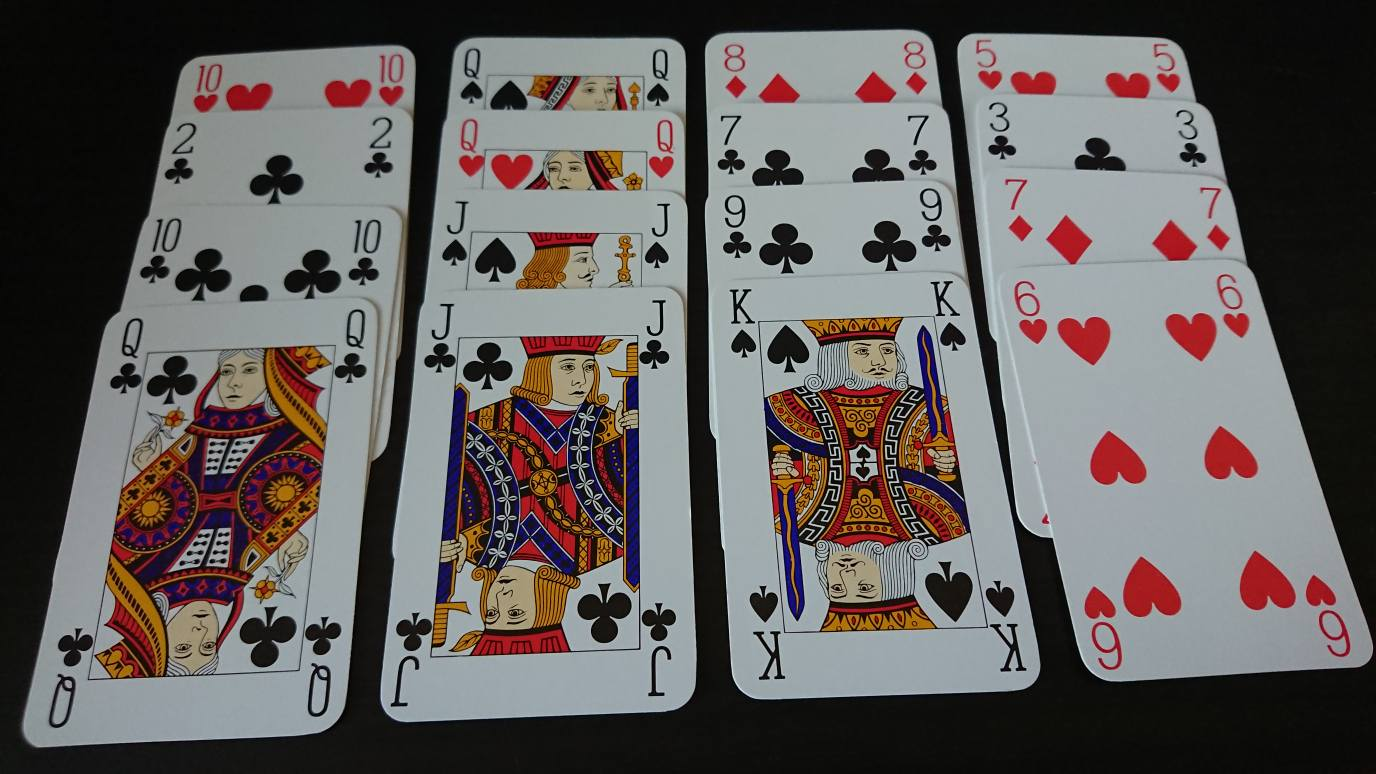10C: (135, 213, 186, 288), (345, 215, 385, 289)
10H: (373, 49, 410, 107), (190, 58, 225, 114)
2C: (361, 112, 397, 185), (161, 119, 199, 188)
3C: (1169, 104, 1211, 171), (982, 98, 1022, 164)
5H: (1149, 39, 1185, 96), (971, 36, 1005, 93)
6H: (1210, 269, 1256, 342), (1008, 275, 1051, 348)
7C: (902, 111, 941, 179), (712, 111, 749, 180)
7D: (998, 172, 1037, 247), (1194, 182, 1234, 254)
8D: (898, 35, 933, 98), (718, 39, 751, 102)
9C: (914, 184, 956, 256), (718, 191, 755, 265)
JC: (420, 298, 461, 376), (634, 295, 674, 374)
JS: (437, 197, 473, 269), (640, 199, 675, 272)
KS: (922, 275, 971, 356), (722, 284, 761, 365)
QC: (105, 313, 147, 401), (330, 303, 372, 388)
QH: (454, 115, 488, 182), (643, 116, 678, 181)
QS: (642, 45, 676, 110), (455, 43, 488, 108)
